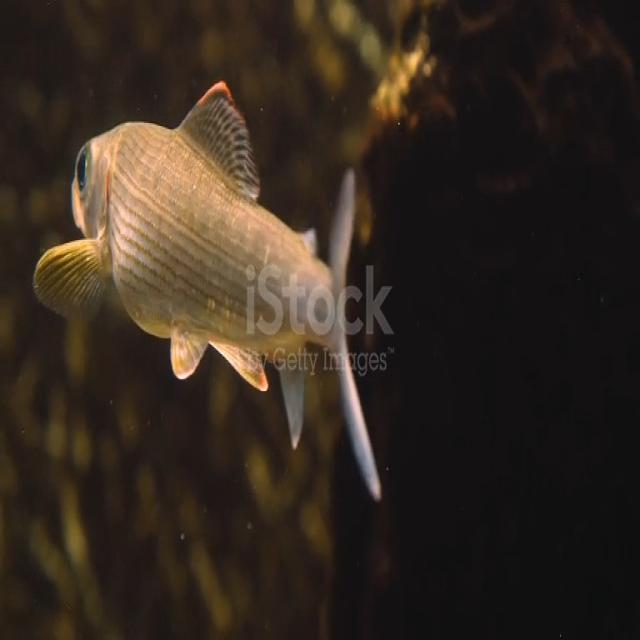fish: (30, 64, 389, 498)
